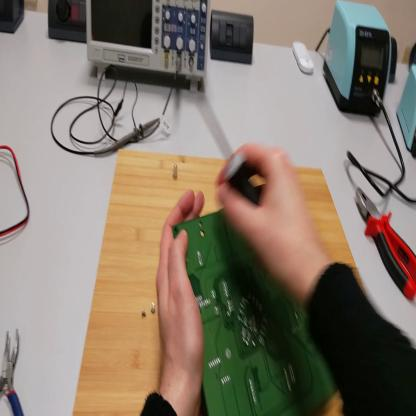hand: (215, 144, 317, 293), (155, 191, 207, 387)
low voltage board: (174, 190, 333, 416)
oscilloscope: (87, 1, 213, 91)
oscilloscope probe tip: (95, 115, 163, 156)
pliers: (358, 187, 416, 301), (2, 330, 26, 416)
screwdriver-: (224, 152, 265, 204)
socket: (49, 2, 88, 48), (2, 2, 25, 36), (390, 37, 400, 83), (408, 42, 416, 71)
welder base: (397, 62, 416, 159)
welder station: (326, 1, 393, 119)
working area: (70, 150, 365, 415)
